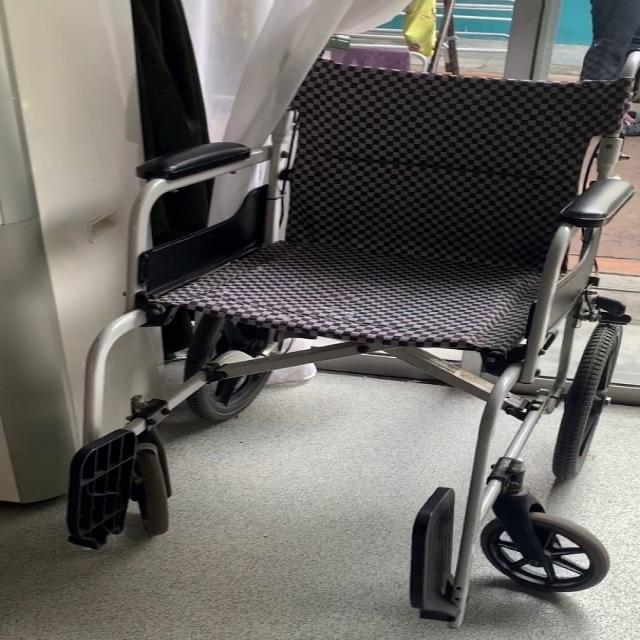wheelchair: (32, 25, 640, 628)
